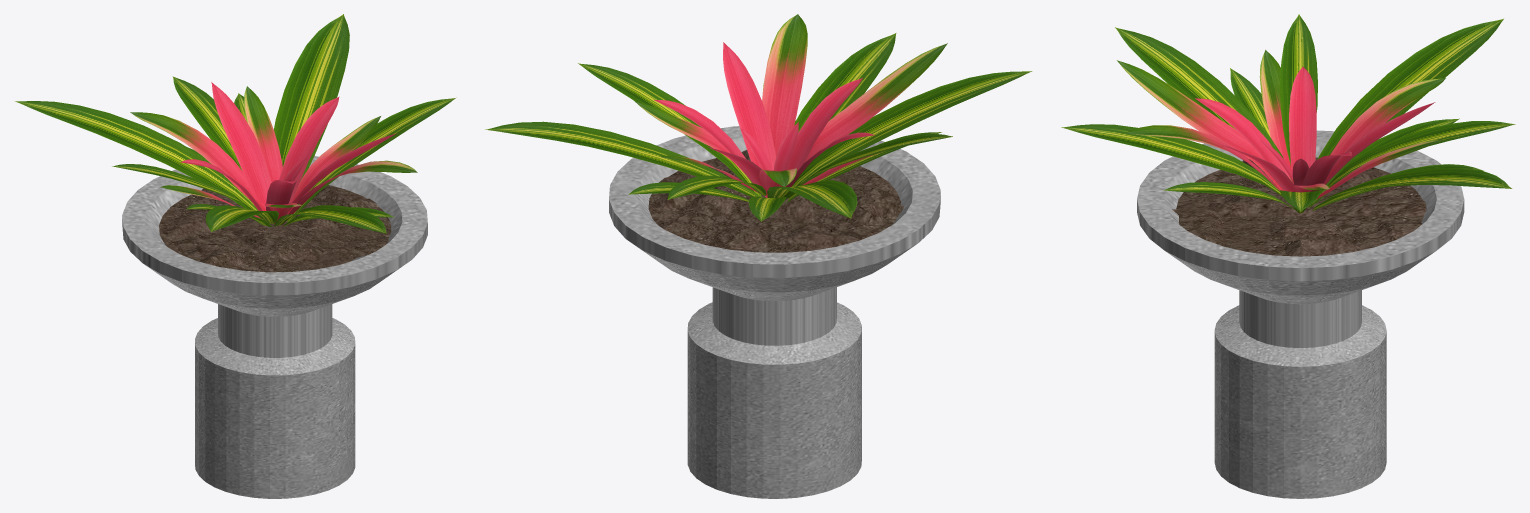
Rendered from Bromeliad wIth Paso.fbx.
The picture shows the model from 3 angles, left to right: view 1: azimuth 30°, elevation 25°; view 2: azimuth 150°, elevation 25°; view 3: azimuth 270°, elevation 25°; orthographic projection. The views are drawn at different scales.
Visible parts, largest first — view 1: bromeliad, Cylinder, Cylinder.001, Plane; view 2: bromeliad, Cylinder, Cylinder.001, Plane; view 3: bromeliad, Cylinder, Cylinder.001, Plane.
Part boxes in pixels (x1=…): bromeliad: x1=15, y1=14, x2=456, y2=233; Cylinder: x1=195, y1=304, x2=355, y2=498; Cylinder.001: x1=122, y1=156, x2=427, y2=316; Plane: x1=159, y1=185, x2=391, y2=272; bromeliad: x1=485, y1=14, x2=1032, y2=221; Cylinder: x1=687, y1=287, x2=861, y2=498; Cylinder.001: x1=609, y1=126, x2=940, y2=301; Plane: x1=648, y1=150, x2=903, y2=252; bromeliad: x1=1061, y1=14, x2=1515, y2=213; Cylinder: x1=1214, y1=290, x2=1386, y2=498; Cylinder.001: x1=1137, y1=130, x2=1464, y2=304; Plane: x1=1172, y1=157, x2=1426, y2=256.
Bounding box in the file's own units: 17.58 × 16.49 × 18.65.
6 materials, 6 textured.
